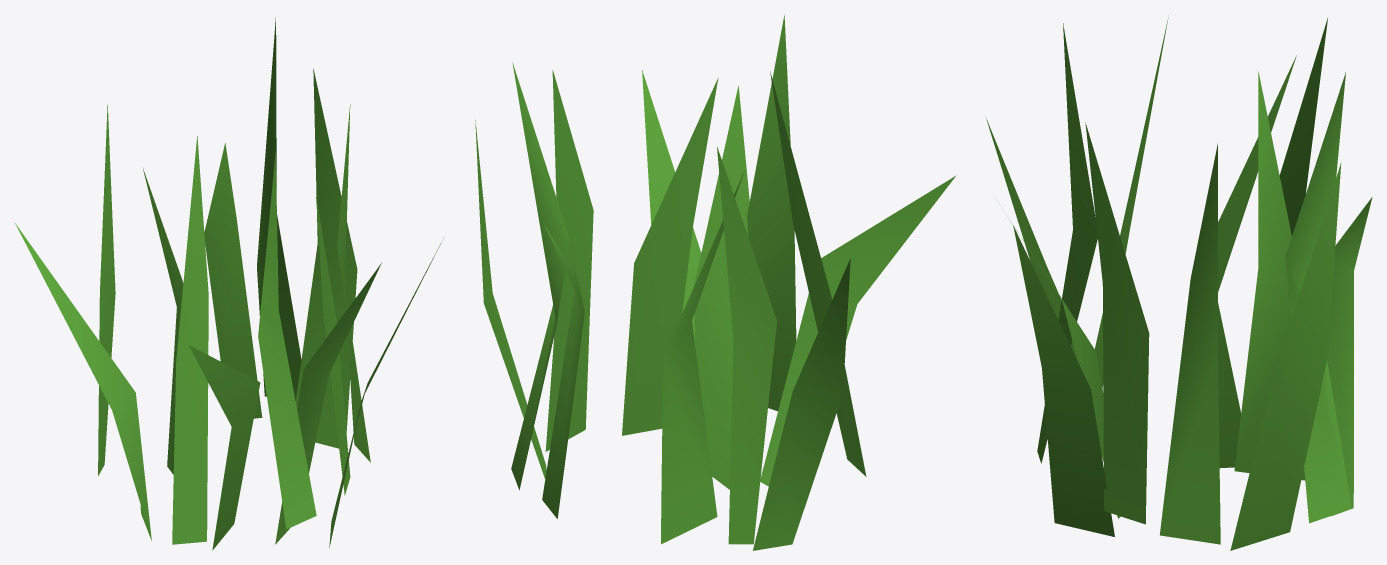
Rendered from Grass_01.FBX.
3 renders of one model, left to right at view 1: azimuth 30°, elevation 25°; view 2: azimuth 150°, elevation 25°; view 3: azimuth 270°, elevation 25°, orthographic. The views are drawn at different scales.
Visible parts, largest first — view 1: Grass002; view 2: Grass002; view 3: Grass002.
Part boxes in pixels (x1,y1,x2,y2): Grass002: [14, 17, 440, 550]; Grass002: [475, 14, 956, 550]; Grass002: [986, 18, 1372, 550].
Size of the model in its own units: 0.551 by 0.689 by 0.4798.
